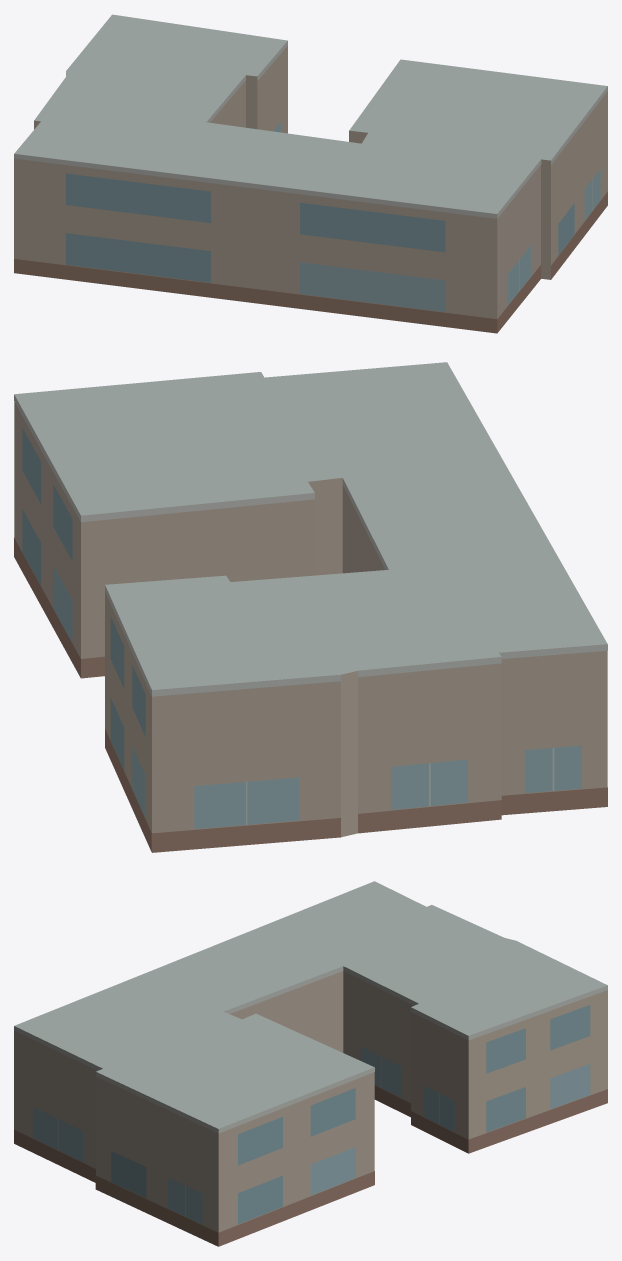
Rendered from survey-upis-32778476.glb.
3 renders of one model, top to bottom at view 1: azimuth 30°, elevation 25°; view 2: azimuth 150°, elevation 25°; view 3: azimuth 270°, elevation 25°, orthographic. The views are drawn at different scales.
Visible parts, largest first — view 1: survey-upis-32778476.tmp; view 2: survey-upis-32778476.tmp; view 3: survey-upis-32778476.tmp.
Part boxes in pixels (x1=…): survey-upis-32778476.tmp: x1=14, y1=14, x2=607, y2=333; survey-upis-32778476.tmp: x1=14, y1=362, x2=607, y2=852; survey-upis-32778476.tmp: x1=14, y1=881, x2=607, y2=1246.
Bounding box in the file's own units: 27.54 × 6.1 × 27.88.
